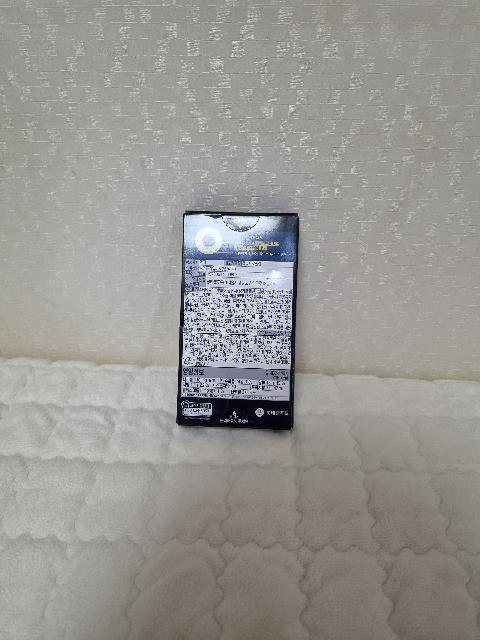pepero: (176, 210, 300, 431)
